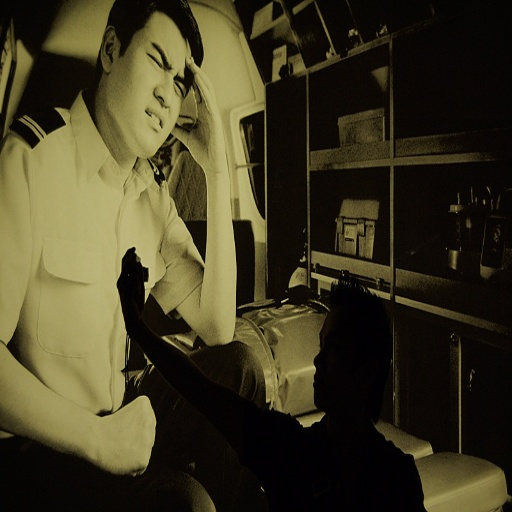hand: (170, 56, 226, 171), (96, 390, 159, 479)
